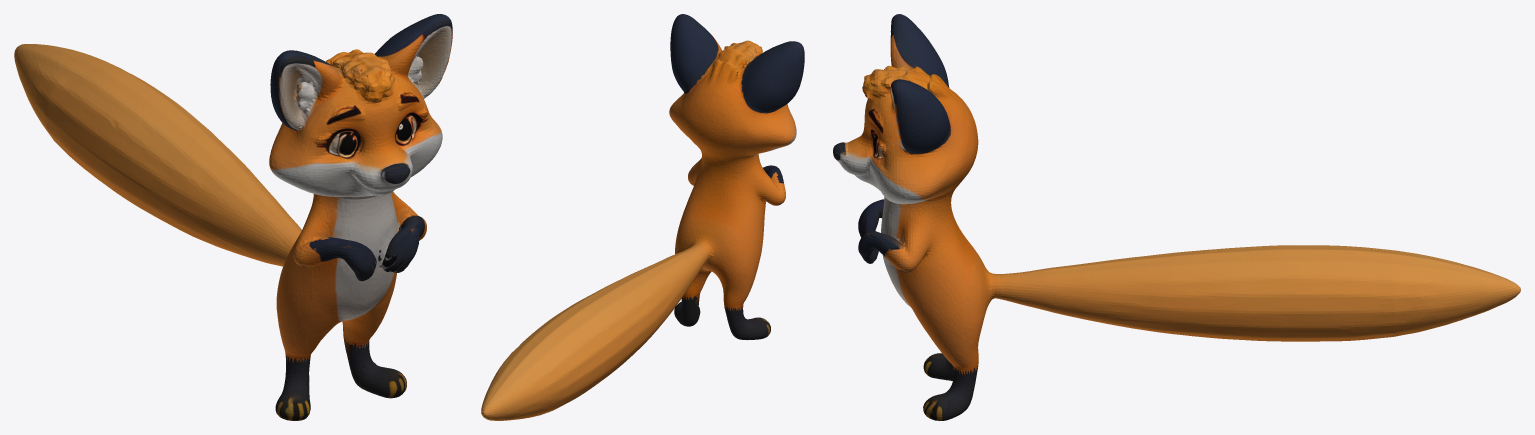
Rendered from npc_fox.glb.
3 renders of one model, left to right at view 1: azimuth 30°, elevation 25°; view 2: azimuth 150°, elevation 25°; view 3: azimuth 270°, elevation 25°, orthographic. The views are drawn at different scales.
Visible parts, largest first — view 1: textured_mesh.obj; view 2: textured_mesh.obj; view 3: textured_mesh.obj.
Boxes of the visible parts, x1,y1,x2,y2 form: textured_mesh.obj: (14, 14, 452, 420); textured_mesh.obj: (481, 14, 804, 420); textured_mesh.obj: (833, 14, 1520, 420).
Bounding box in the file's own units: 0.5292 × 1.11 × 1.99.
1 material, 1 textured.
